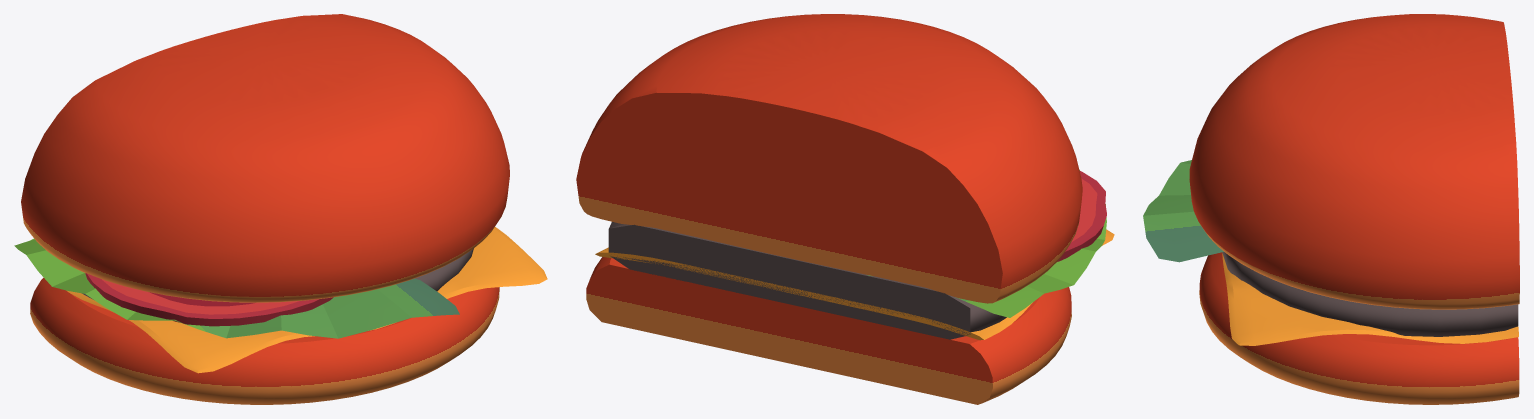
File: hamburguesa.fbx
3 renders of one model, left to right at view 1: azimuth 30°, elevation 25°; view 2: azimuth 150°, elevation 25°; view 3: azimuth 270°, elevation 25°, orthographic. The views are drawn at different scales.
Parts seen in each view (by area): view 1: hamburguesa; view 2: hamburguesa; view 3: hamburguesa.
Part boxes in pixels (left/top/right/bottom): hamburguesa: left=14, top=14, right=547, bottom=404; hamburguesa: left=576, top=14, right=1114, bottom=404; hamburguesa: left=1143, top=14, right=1519, bottom=404.
Size of the model in its own units: 57.2 by 31.93 by 43.52.
